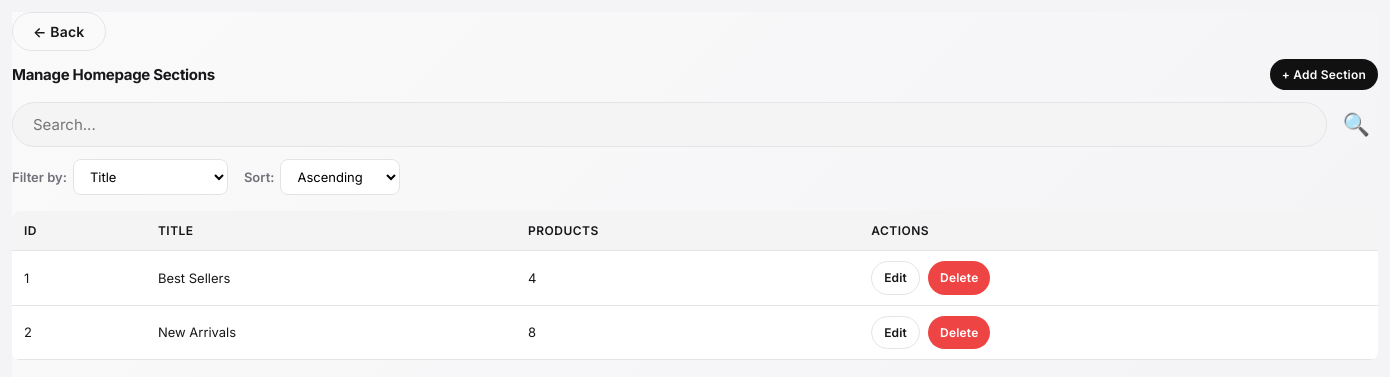
Scenario: AdminHomeSections › Search › should filter sections by search term
Type "Best" into the field with placeholder "Search...".
click(669, 125); type("Best")  # box [12,102,1326,147]
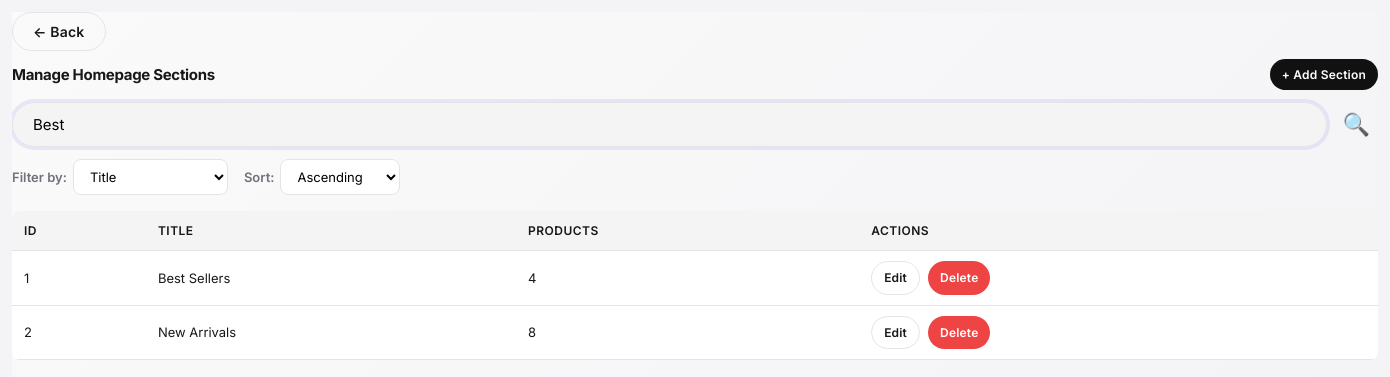
Click the button "🔍".
click(1356, 125)  # box [1334,102,1378,147]
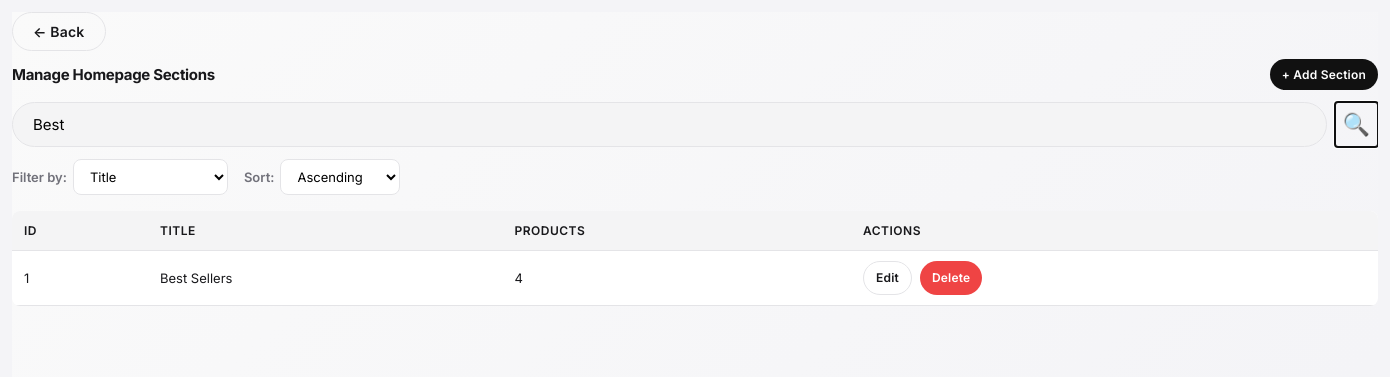
Expected: the link "Best Sellers" is shown, [160,270,232,286]
Now the link "New Arrivals" is gone
